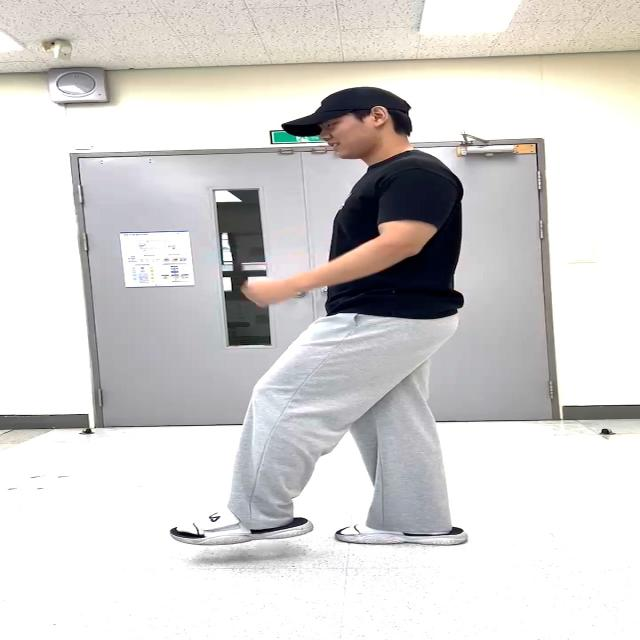leg: (194, 323, 369, 565)
